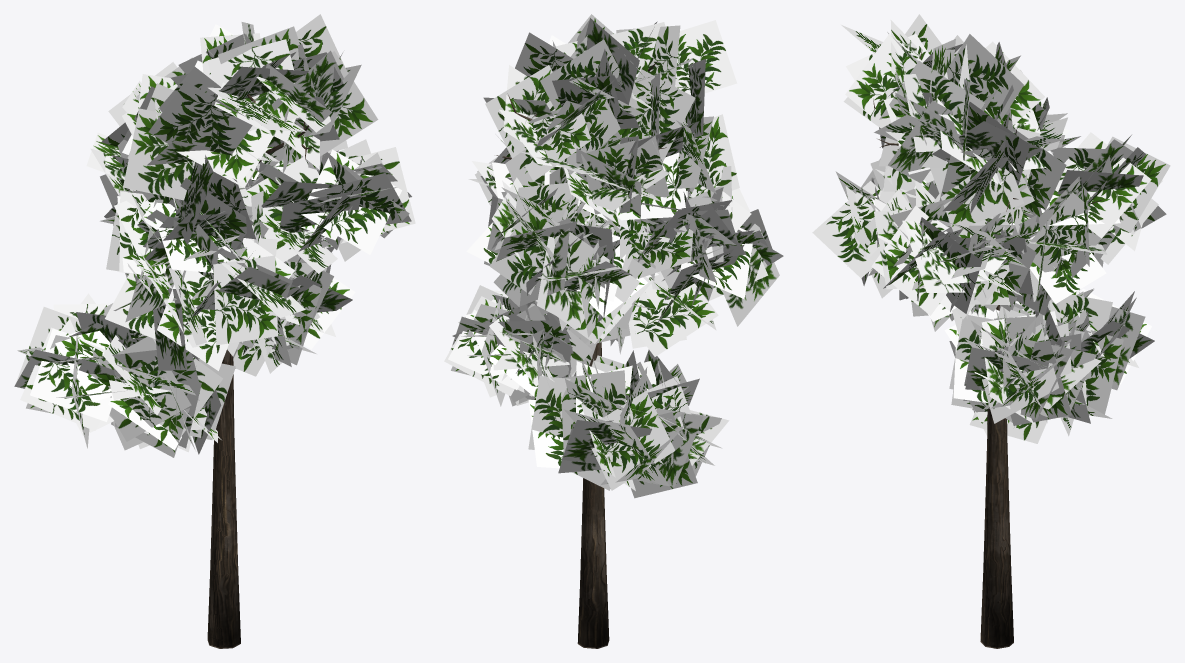
The model's file is Meranti 1.fbx.
3 views of the same model, side by side, from view 1: azimuth 30°, elevation 25°; view 2: azimuth 150°, elevation 25°; view 3: azimuth 270°, elevation 25° (orthographic). The views are drawn at different scales.
Visible parts, largest first — view 1: meranti.001; view 2: meranti.001; view 3: meranti.001.
Part boxes in pixels (bbox=[...]): meranti.001: bbox=[14, 14, 415, 648]; meranti.001: bbox=[444, 14, 783, 648]; meranti.001: bbox=[812, 14, 1170, 648].
Size of the model in its own units: 602 by 1139 by 606.
